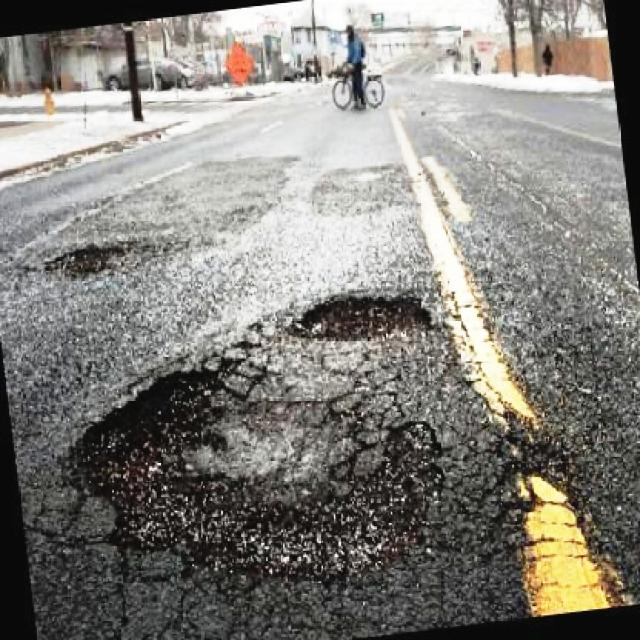pothole: (58, 340, 454, 578), (285, 284, 457, 350), (43, 229, 145, 283)
